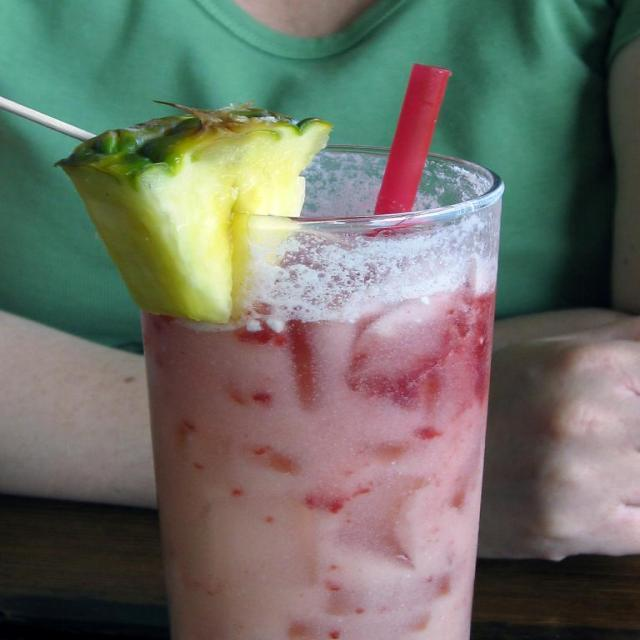Juice: (123, 154, 495, 640)
